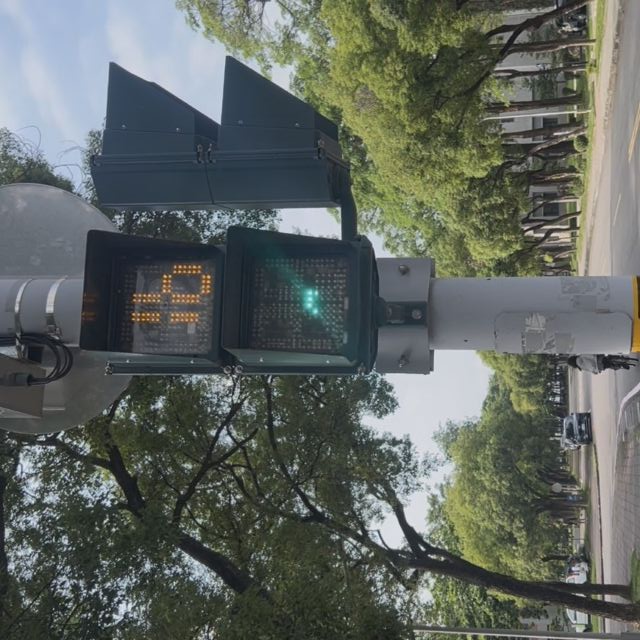green_light: (81, 232, 376, 370)
